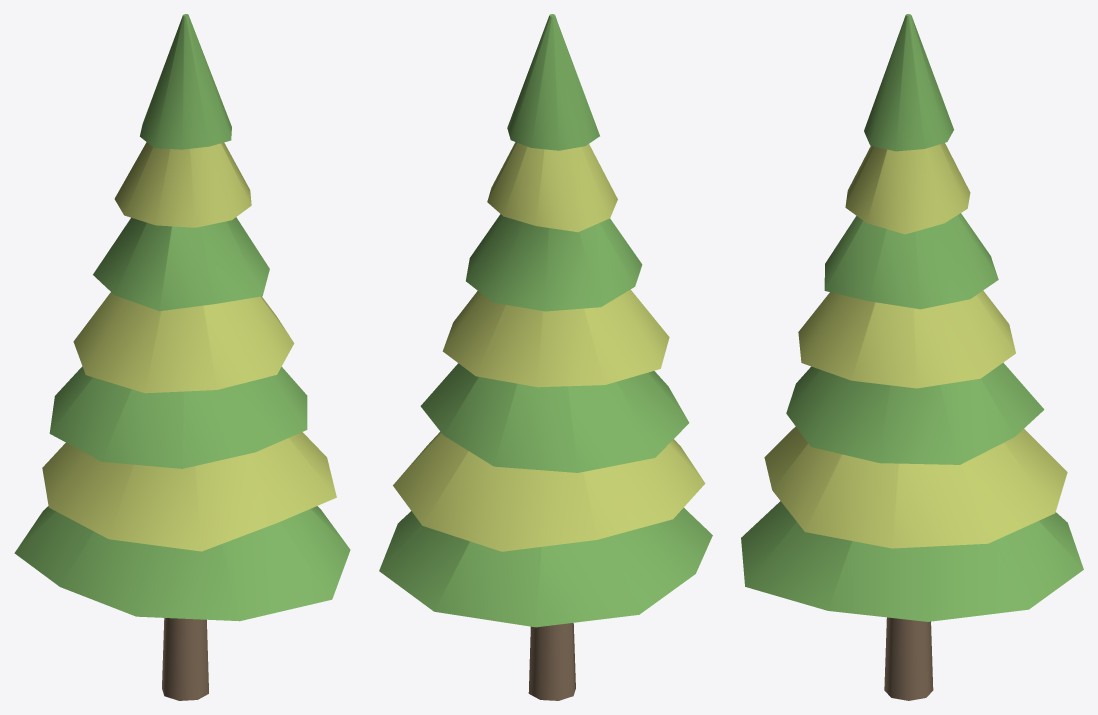
The model's file is tree_conifer.fbx.
3 renders of one model, left to right at view 1: azimuth 30°, elevation 25°; view 2: azimuth 150°, elevation 25°; view 3: azimuth 270°, elevation 25°, orthographic.
Visible parts, largest first — view 1: tree_conifer_LOD0; view 2: tree_conifer_LOD0; view 3: tree_conifer_LOD0.
Part boxes in pixels (left/top/right/bottom): tree_conifer_LOD0: left=14, top=14, right=350, bottom=700; tree_conifer_LOD0: left=379, top=14, right=712, bottom=700; tree_conifer_LOD0: left=741, top=14, right=1083, bottom=700.
Size of what is drawn, in the model's own units: 5.54 by 12.8 by 5.89.
